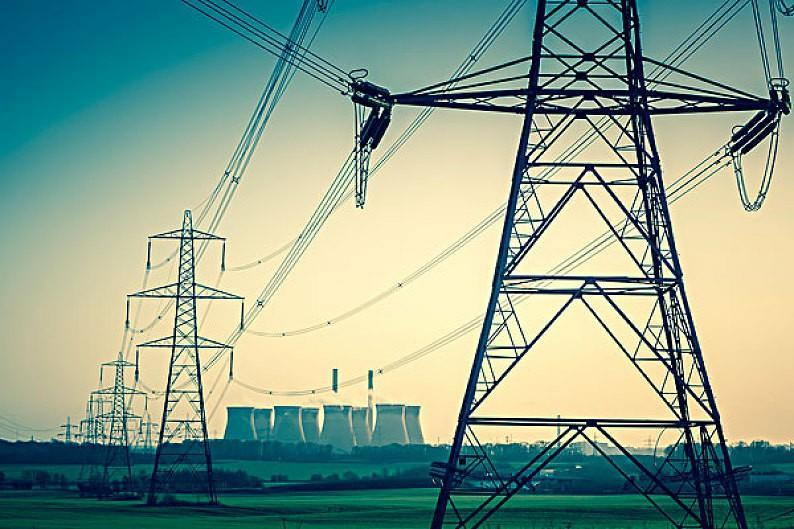power_tower: (335, 2, 794, 529), (134, 189, 252, 509), (96, 343, 148, 495)
